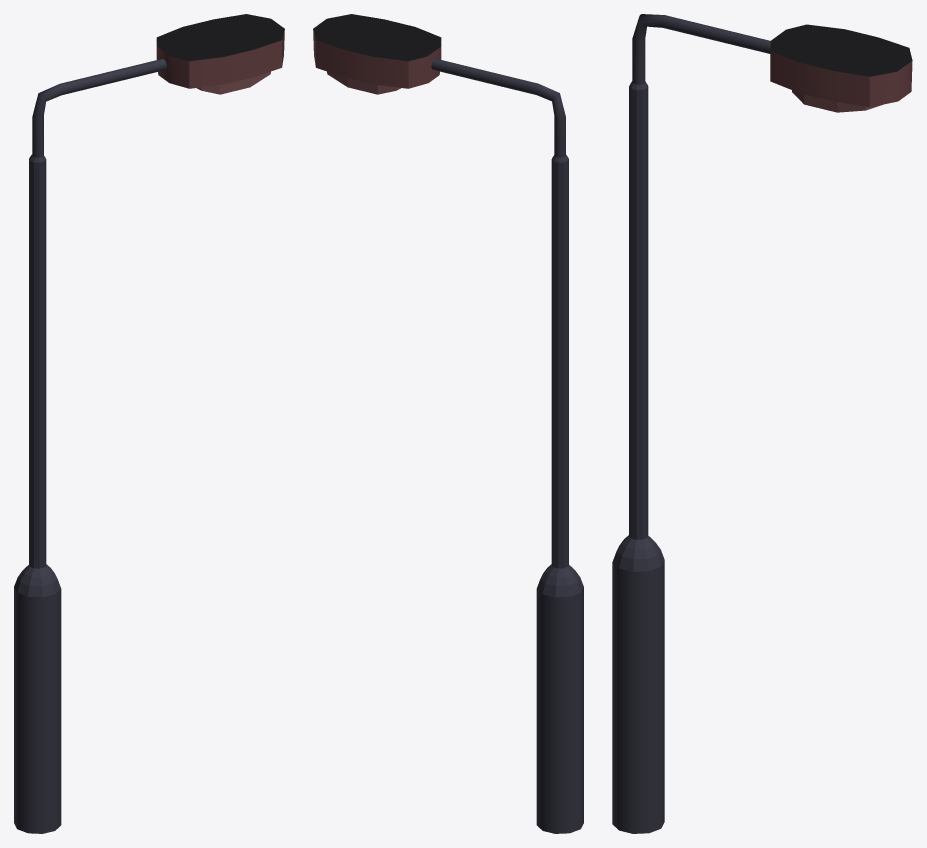
The model's file is 가로등.FBX.
The picture shows the model from 3 angles, left to right: view 1: azimuth 30°, elevation 25°; view 2: azimuth 150°, elevation 25°; view 3: azimuth 330°, elevation 25°; orthographic projection. The views are drawn at different scales.
Parts seen in each view (by area): view 1: Cylinder002; view 2: Cylinder002; view 3: Cylinder002.
Boxes of the visible parts, x1,y1,x2,y2 form: Cylinder002: [14, 14, 284, 833]; Cylinder002: [313, 14, 583, 833]; Cylinder002: [612, 14, 912, 833].
Size of the model in its own units: 46.15 by 125 by 12.61.
Materials: 1 (1 with a texture image).
